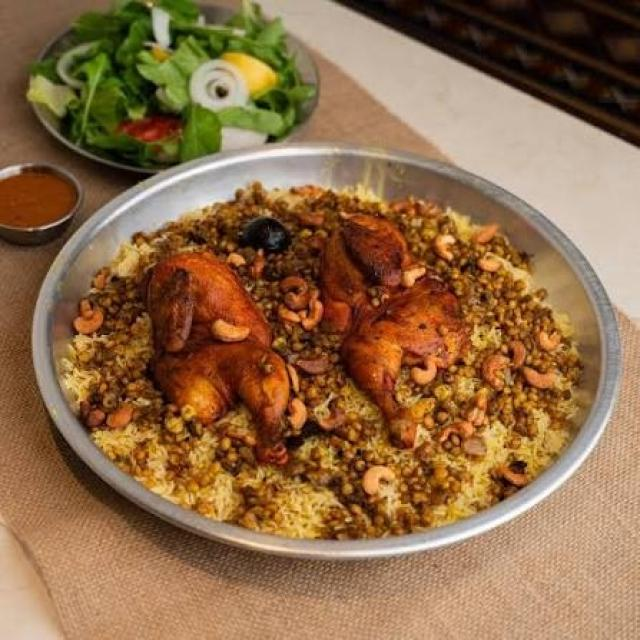Machboos: (60, 145, 622, 574)
